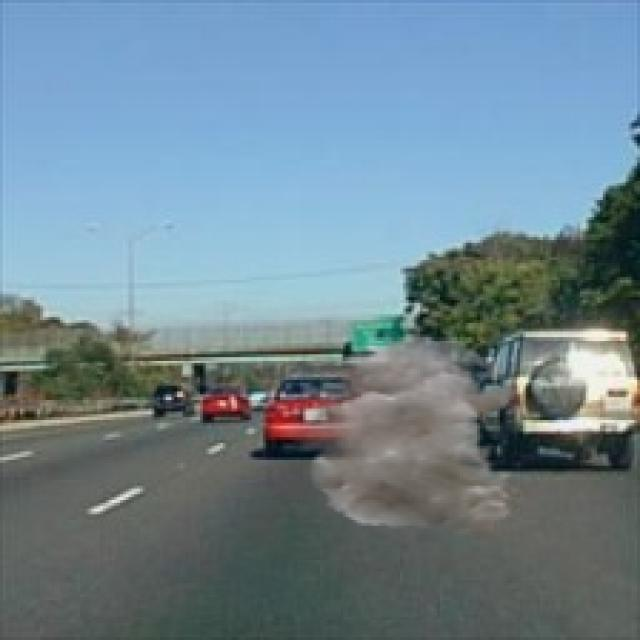smoke: (280, 334, 523, 537)
